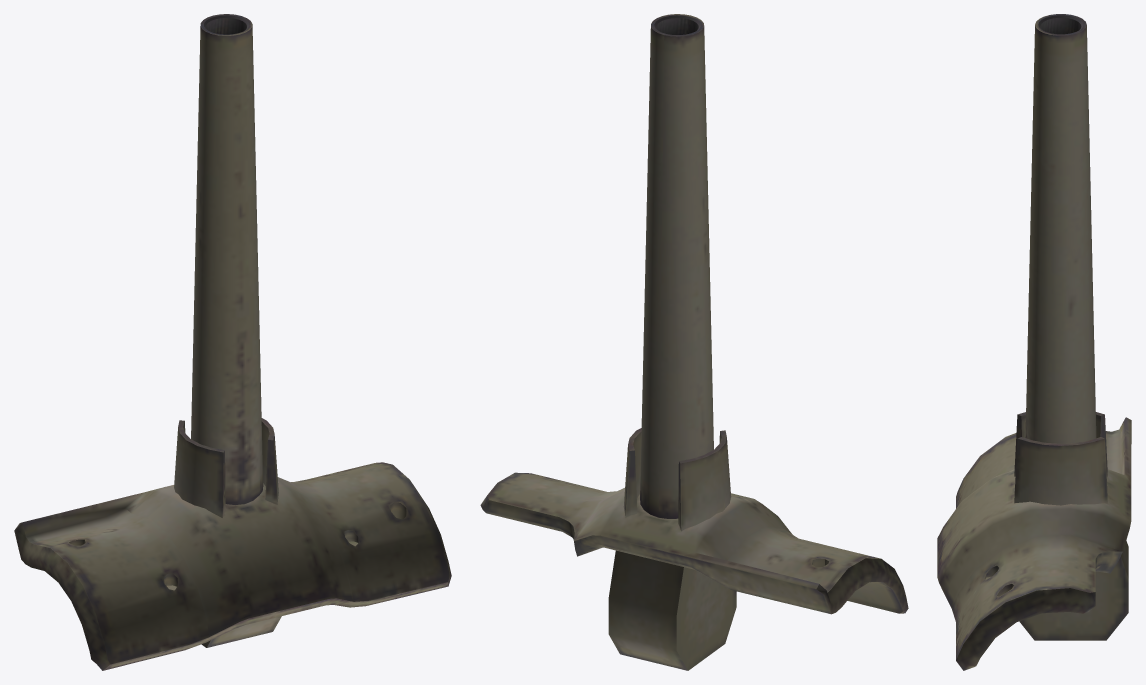
The model's file is Gun_06.glb.
The picture shows the model from 3 angles, left to right: view 1: azimuth 30°, elevation 25°; view 2: azimuth 150°, elevation 25°; view 3: azimuth 270°, elevation 25°; orthographic projection. The views are drawn at different scales.
Visible parts, largest first — view 1: set_0_group_0; view 2: set_0_group_0; view 3: set_0_group_0.
Part boxes in pixels (left/top/right/bottom): set_0_group_0: left=14, top=14, right=451, bottom=670; set_0_group_0: left=480, top=14, right=908, bottom=670; set_0_group_0: left=937, top=14, right=1131, bottom=670.
Bounding box in the file's own units: 1.04 × 1.7 × 0.4989.
Materials: 1 (1 with a texture image).
